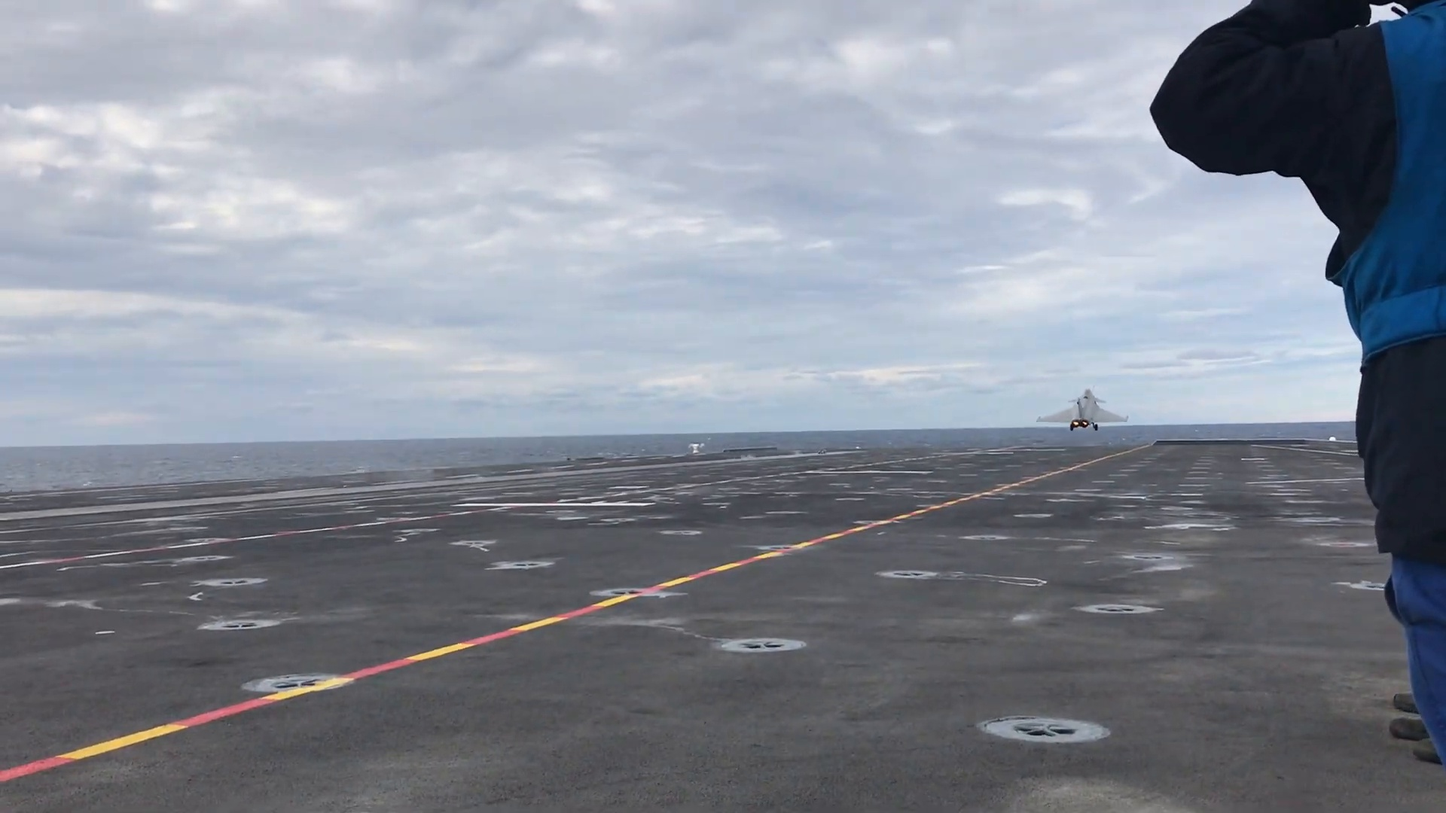Rafale: (1035, 383, 1130, 431)
